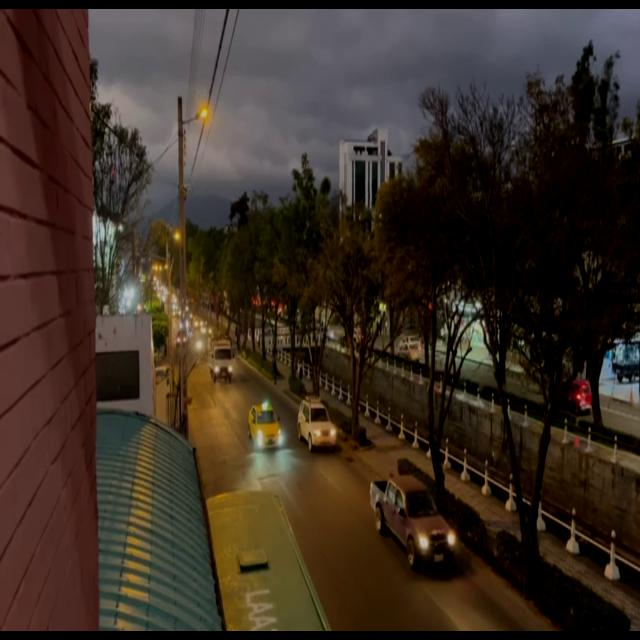CMT: (372, 481, 456, 567)
SED: (251, 408, 283, 447)
SUV: (300, 401, 337, 448)
TRUCK: (210, 339, 232, 383)
